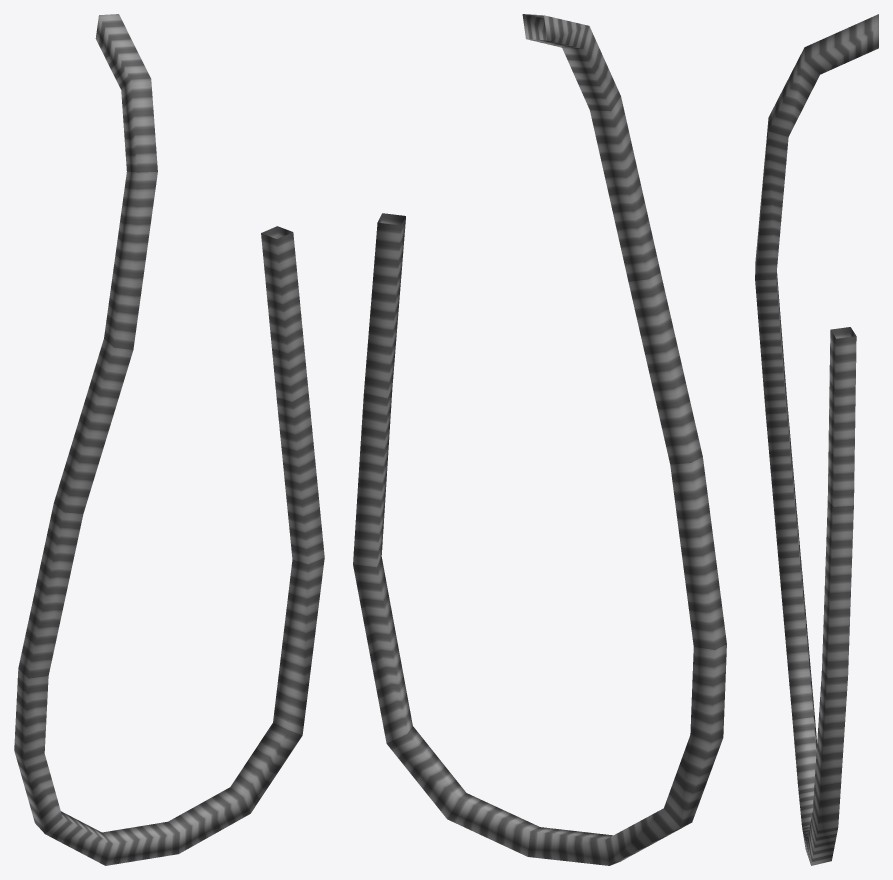
Rendered from SW_PROP_PublicPhone_Cord.fbx.
3 renders of one model, left to right at view 1: azimuth 30°, elevation 25°; view 2: azimuth 150°, elevation 25°; view 3: azimuth 270°, elevation 25°, orthographic. The views are drawn at different scales.
Parts seen in each view (by area): view 1: SW_PROP_PublicPhone_Cord; view 2: SW_PROP_PublicPhone_Cord; view 3: SW_PROP_PublicPhone_Cord.
Boxes of the visible parts, box(x1,y1,x2,y2) form: SW_PROP_PublicPhone_Cord: box(14, 14, 324, 865); SW_PROP_PublicPhone_Cord: box(353, 14, 726, 865); SW_PROP_PublicPhone_Cord: box(755, 14, 878, 865).
Bounding box in the file's own units: 0.1747 × 0.4267 × 0.0587.
